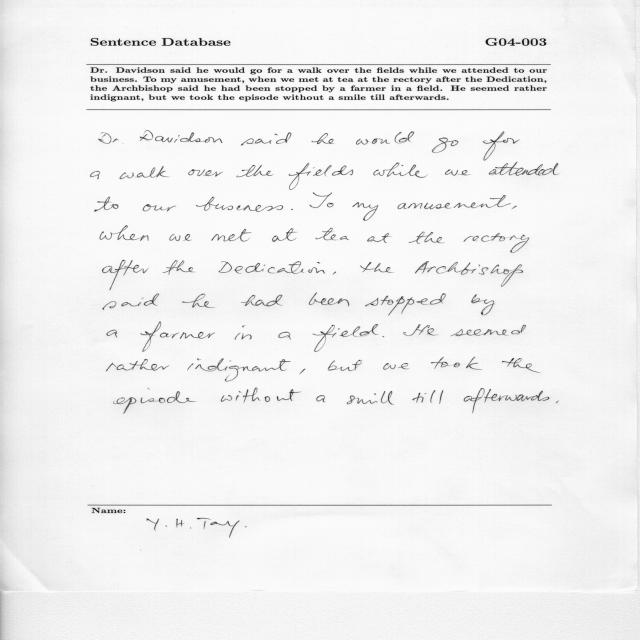word: (415, 261, 523, 287), (187, 358, 291, 382), (140, 322, 215, 352), (114, 388, 196, 414), (464, 388, 549, 413), (313, 324, 378, 352), (365, 294, 446, 316), (289, 163, 353, 190), (398, 195, 511, 209), (102, 260, 149, 290), (218, 261, 325, 274), (464, 233, 530, 253), (196, 197, 283, 212), (221, 388, 301, 403), (483, 131, 520, 161), (489, 162, 559, 176), (145, 131, 223, 143), (103, 294, 159, 310), (450, 325, 526, 336), (374, 163, 428, 178), (107, 359, 170, 371), (356, 132, 414, 145), (100, 226, 149, 241), (241, 132, 291, 146), (431, 357, 482, 370), (120, 166, 169, 179), (99, 132, 152, 144), (347, 391, 394, 404), (502, 358, 540, 373), (211, 229, 252, 242), (471, 294, 496, 315), (309, 293, 349, 306), (353, 202, 379, 221), (163, 260, 195, 275), (182, 294, 215, 308), (241, 295, 282, 306), (237, 165, 274, 177), (408, 232, 445, 244), (413, 390, 444, 404), (403, 324, 438, 336), (432, 137, 458, 153), (316, 228, 349, 240), (328, 360, 362, 371), (360, 262, 393, 273), (95, 197, 119, 212), (310, 193, 334, 208), (272, 228, 297, 242), (188, 169, 223, 177), (312, 133, 335, 144), (367, 233, 391, 243), (235, 326, 252, 340), (143, 205, 176, 212), (383, 363, 410, 370), (445, 169, 470, 176), (169, 234, 192, 241), (279, 332, 292, 340), (107, 330, 117, 338), (91, 171, 100, 179), (316, 395, 326, 402), (300, 369, 306, 375), (511, 206, 517, 209), (333, 272, 336, 275), (556, 401, 558, 404), (291, 209, 293, 210), (383, 336, 385, 337)
